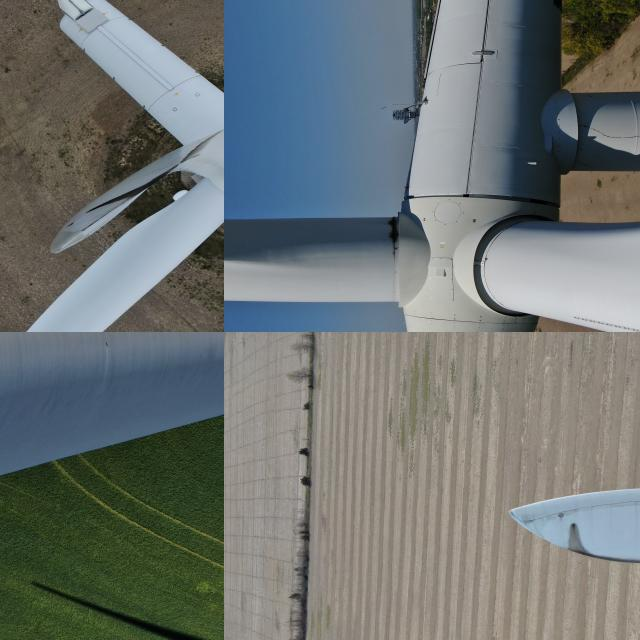damage: (76, 176, 162, 222), (376, 216, 404, 252), (562, 522, 590, 558)
